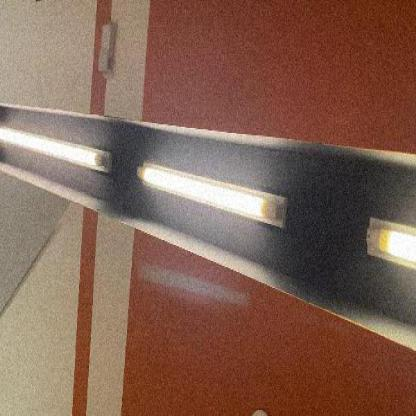light_on: (132, 147, 293, 240), (0, 118, 113, 188), (360, 201, 415, 277)
